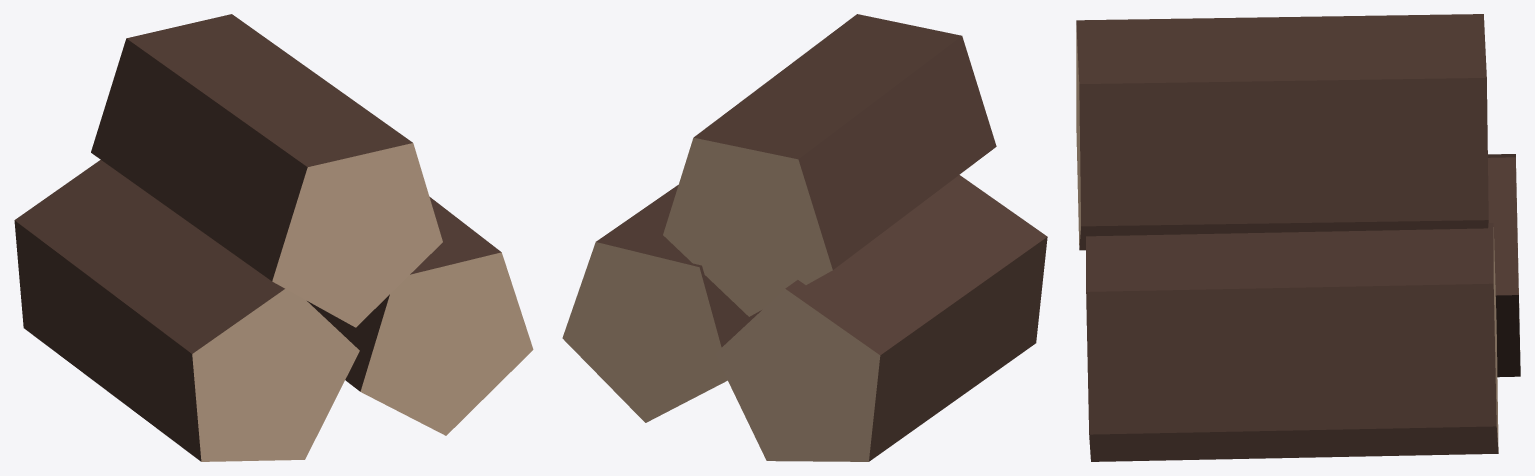
The model's file is ItemWood.fbx.
3 renders of one model, left to right at view 1: azimuth 30°, elevation 25°; view 2: azimuth 150°, elevation 25°; view 3: azimuth 270°, elevation 25°, orthographic. The views are drawn at different scales.
Visible parts, largest first — view 1: ItemWood; view 2: ItemWood; view 3: ItemWood.
Part boxes in pixels (box(x1,y1,x2,y2)): ItemWood: box(14, 14, 533, 461); ItemWood: box(562, 14, 1047, 461); ItemWood: box(1076, 14, 1520, 461).
Size of the model in its own units: 11.07 by 9.8 by 10.9.
